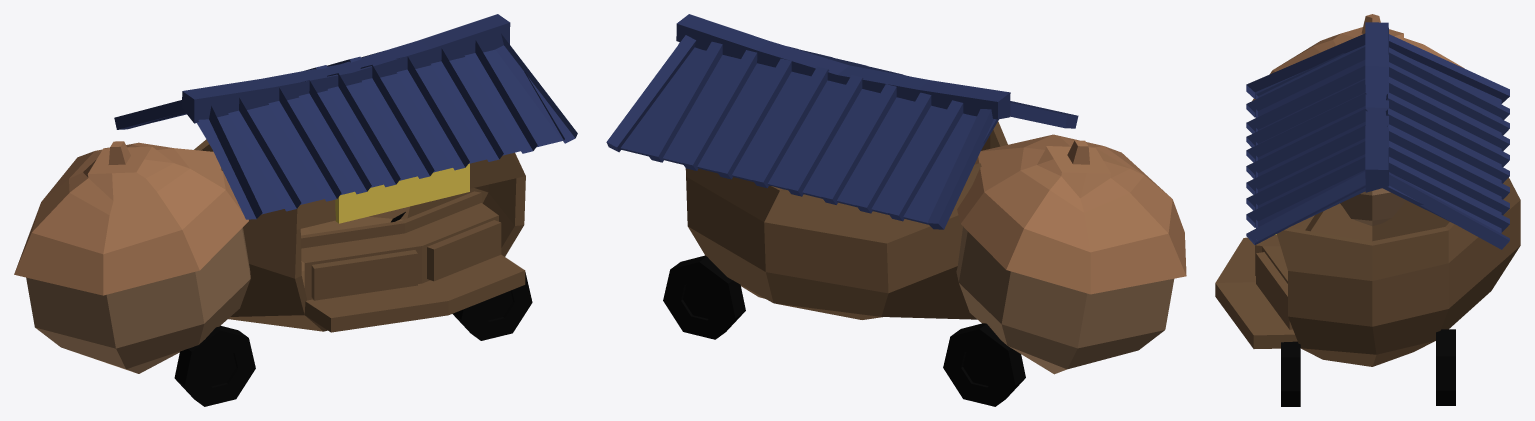
The model's file is food truck.fbx.
3 views of the same model, side by side, from view 1: azimuth 30°, elevation 25°; view 2: azimuth 150°, elevation 25°; view 3: azimuth 270°, elevation 25° (orthographic). The views are drawn at different scales.
Visible parts, largest first — view 1: Cube.008, 도토리몸통.008, 도토리머리.007, 도토리몸통.007, Circle.001, Cube.028, Circle.002; view 2: Cube.008, 도토리몸통.008, 도토리머리.007, 도토리몸통.007, Circle.003, Circle.004; view 3: Cube.008, 도토리몸통.008, 도토리몸통.007, Circle.003, 도토리머리.007, Circle.002.
Boxes of the visible parts, x1,y1,x2,y2 form: Cube.008: (114, 14, 577, 219); 도토리몸통.008: (194, 139, 525, 332); 도토리머리.007: (14, 141, 248, 295); 도토리몸통.007: (26, 227, 250, 373); Circle.001: (174, 325, 255, 406); Cube.028: (335, 163, 469, 223); Circle.002: (452, 272, 532, 340); Cube.008: (606, 14, 1078, 229); 도토리몸통.008: (685, 121, 1007, 319); 도토리머리.007: (957, 134, 1186, 294); 도토리몸통.007: (956, 226, 1174, 374); Circle.003: (663, 255, 745, 339); Circle.004: (943, 323, 1025, 406); Cube.008: (1246, 22, 1509, 249); 도토리몸통.008: (1215, 177, 1520, 366); 도토리몸통.007: (1340, 188, 1405, 226); Circle.003: (1436, 329, 1455, 405); 도토리머리.007: (1252, 14, 1464, 100); Circle.002: (1281, 341, 1300, 406).
Bounding box in the file's own units: 1638 × 840 × 906.
